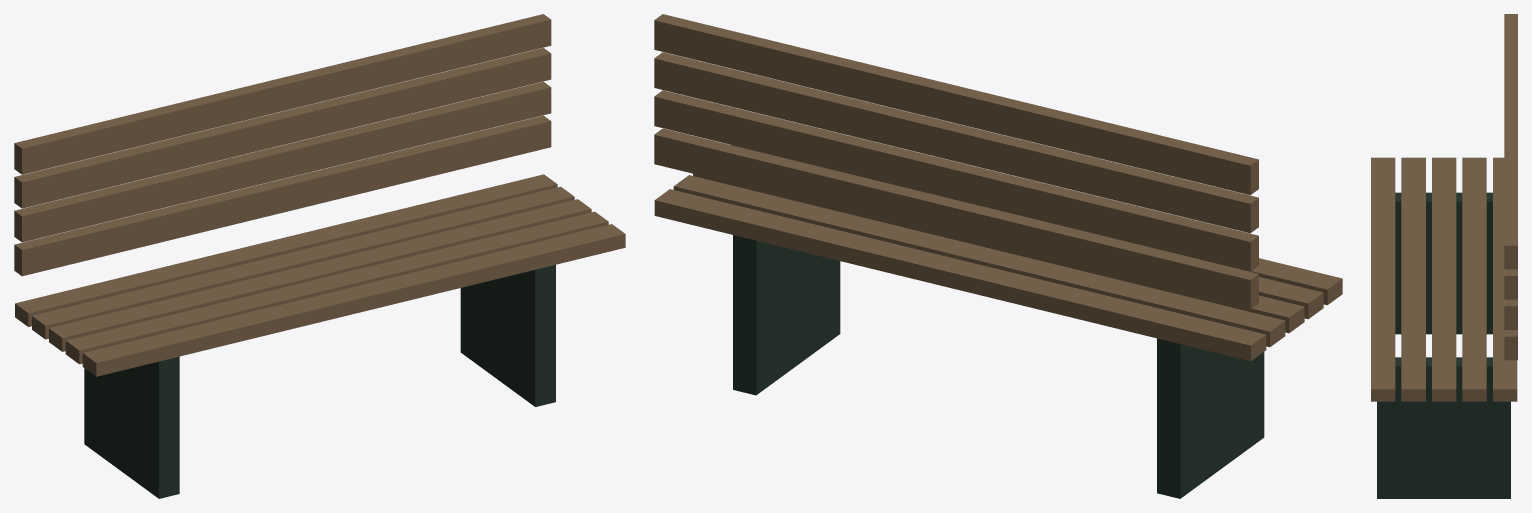
3 views of the same model, side by side, from view 1: azimuth 30°, elevation 25°; view 2: azimuth 150°, elevation 25°; view 3: azimuth 270°, elevation 25° (orthographic). The views are drawn at different scales.
Visible parts, largest first — view 1: Timber back slat / surface 5 (×4), Timber seat slat / surface 3 (×5), Timber back slat / surface 3 (×4), Timber seat slat / surface 5 (×5), Cast bench leg / surface 2 (×2), Cast bench leg / surface 5 (×2); view 2: Timber back slat / surface 6 (×4), Timber back slat / surface 3 (×4), Timber seat slat / surface 3 (×4), Cast bench leg / surface 2 (×2), Timber seat slat / surface 6 (×4), Cast bench leg / surface 6 (×2); view 3: Timber seat slat / surface 3 (×5), Cast bench leg / surface 1 (×2), Timber back slat / surface 3, Timber seat slat / surface 1 (×5), Timber back slat / surface 1 (×4), Cast bench leg / surface 3 (×2).
Boxes of the visible parts, x1=… form: Timber back slat / surface 5 (×4): x1=22, y1=19, x2=551, y2=276; Timber seat slat / surface 3 (×5): x1=15, y1=174, x2=624, y2=362; Timber back slat / surface 3 (×4): x1=15, y1=14, x2=550, y2=249; Timber seat slat / surface 5 (×5): x1=28, y1=184, x2=625, y2=376; Cast bench leg / surface 2 (×2): x1=84, y1=270, x2=535, y2=498; Cast bench leg / surface 5 (×2): x1=159, y1=265, x2=555, y2=498; Timber back slat / surface 6 (×4): x1=654, y1=20, x2=1250, y2=309; Timber back slat / surface 3 (×4): x1=654, y1=14, x2=1258, y2=279; Timber seat slat / surface 3 (×4): x1=655, y1=175, x2=1342, y2=345; Cast bench leg / surface 2 (×2): x1=756, y1=240, x2=1264, y2=498; Timber seat slat / surface 6 (×4): x1=654, y1=145, x2=1327, y2=361; Cast bench leg / surface 6 (×2): x1=733, y1=235, x2=1180, y2=498; Timber seat slat / surface 3 (×5): x1=1371, y1=157, x2=1517, y2=389; Cast bench leg / surface 1 (×2): x1=1377, y1=201, x2=1510, y2=498; Timber back slat / surface 3: x1=1504, y1=14, x2=1517, y2=245; Timber seat slat / surface 1 (×5): x1=1371, y1=389, x2=1517, y2=401; Timber back slat / surface 1 (×4): x1=1504, y1=245, x2=1517, y2=360; Cast bench leg / surface 3 (×2): x1=1395, y1=192, x2=1492, y2=366.
Bounding box in the file's own units: 1.8 × 1.02 × 0.4825.
